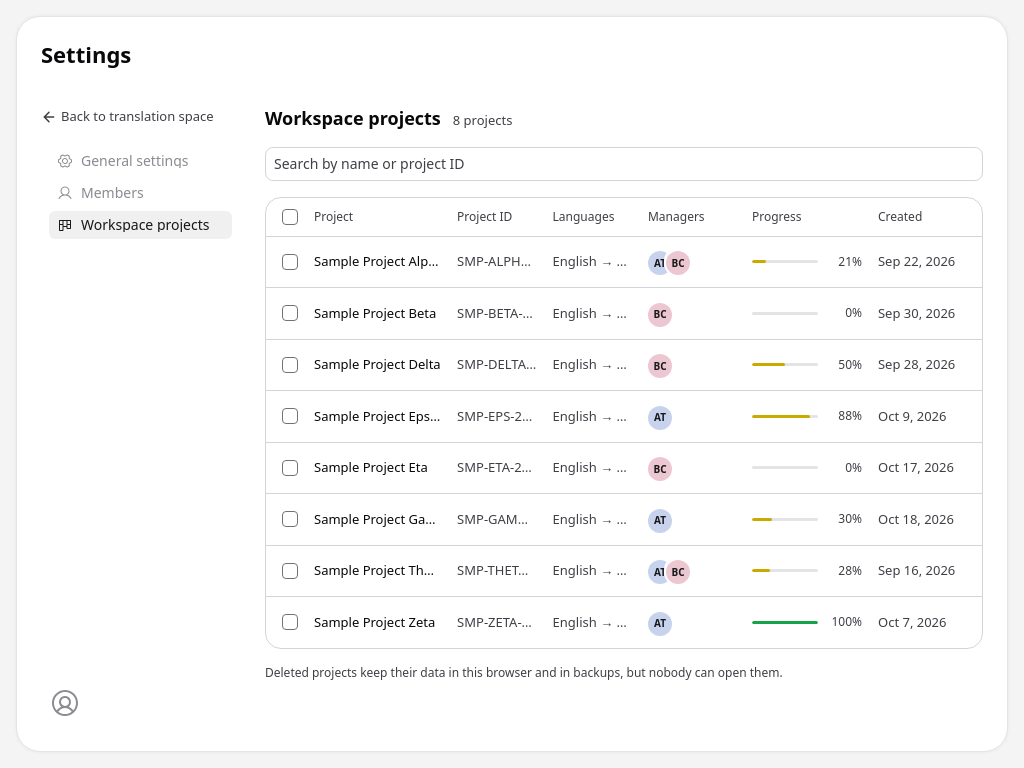
it: Settings > Workspace projects › shows workers their projects only, without actions
The image size is (1024, 768).
Check: the link "Sample Project Alpha" is shown, box [314,252,441,272]
Click the button named "Open user menu": (140, 703) [49,687,232,719]
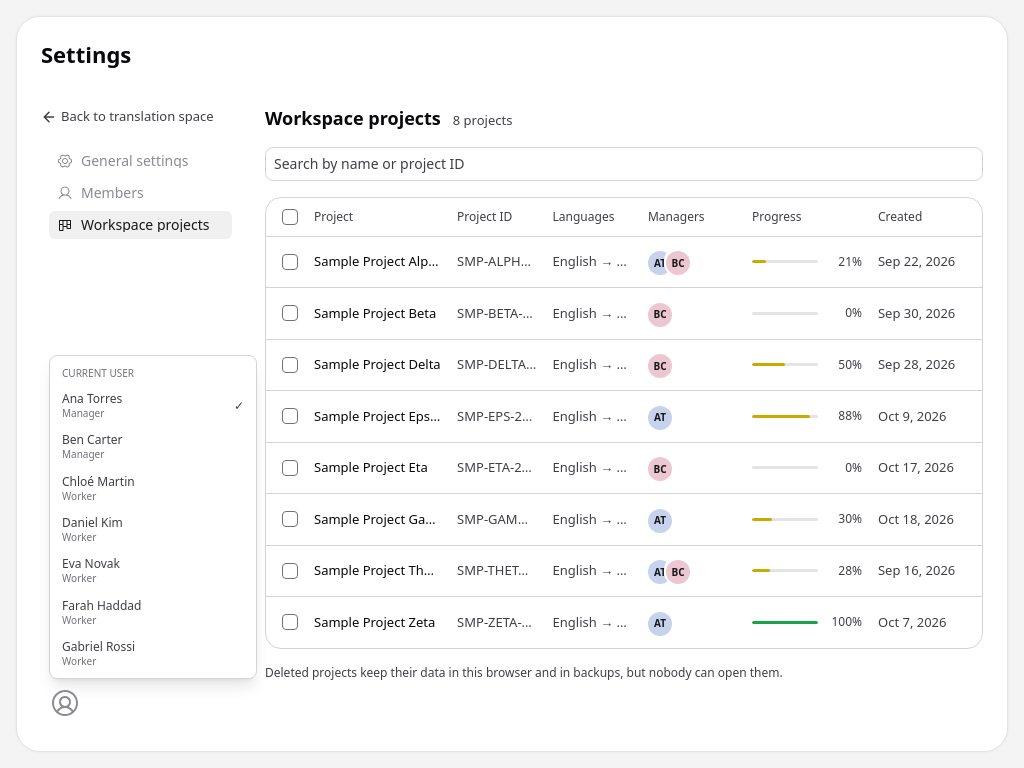
Click the menu item "Chloé Martin Worker": (98, 488) [62,473,135,503]
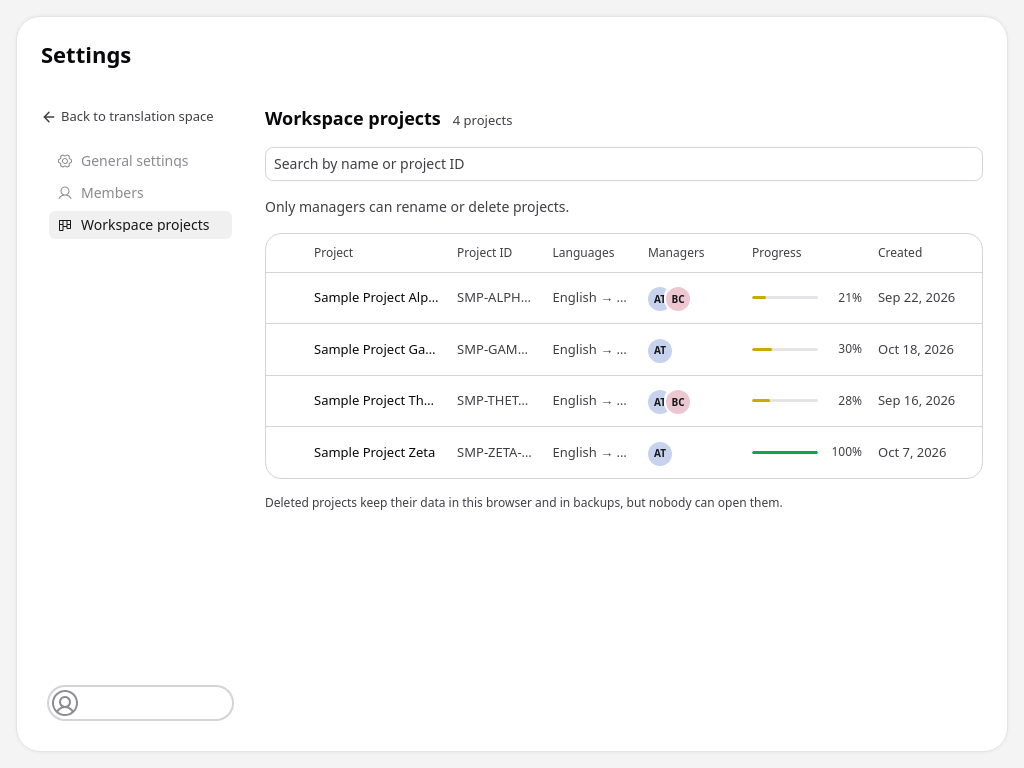
Check: the checkbox is gone
Check: the text "Only managers can rename or delete projects." is shown, box [265,196,569,216]
